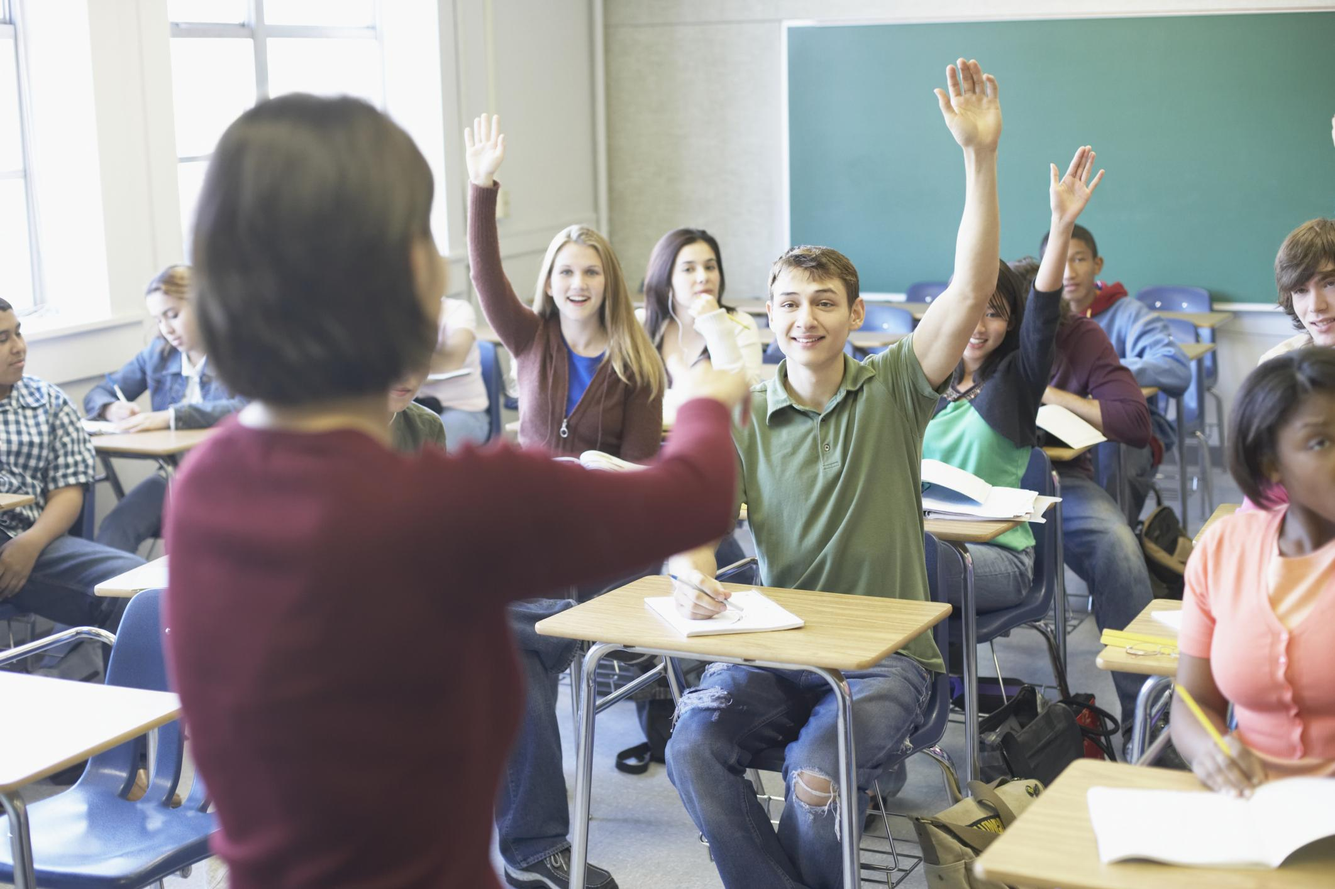study: (709, 50, 1004, 603), (459, 114, 662, 489), (908, 139, 1111, 476)
